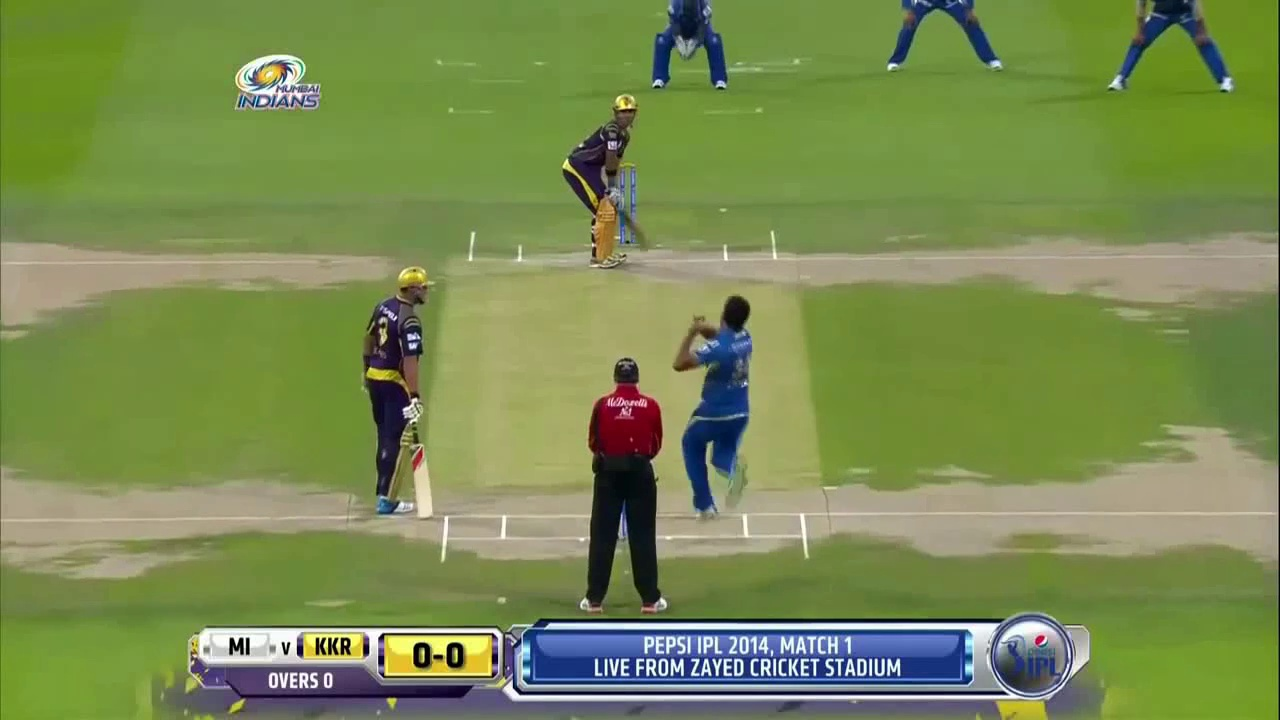bat: (408, 443, 434, 521)
